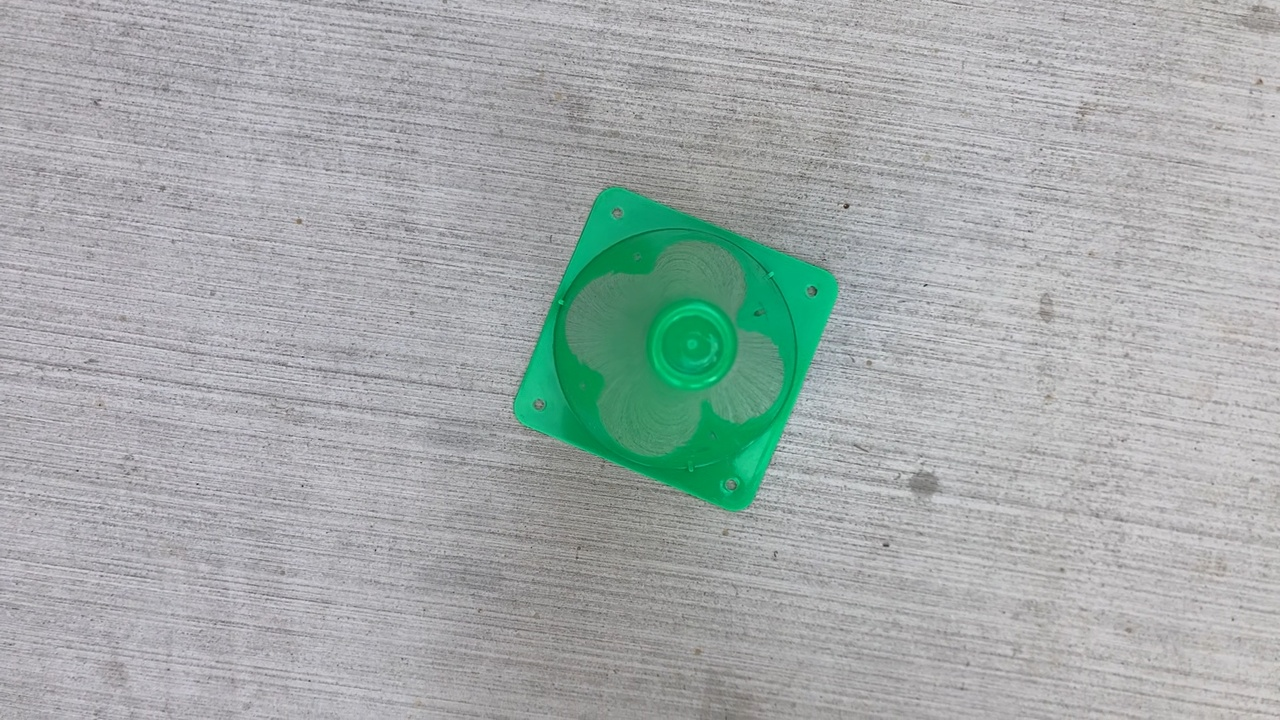green_cone: (508, 185, 845, 523)
